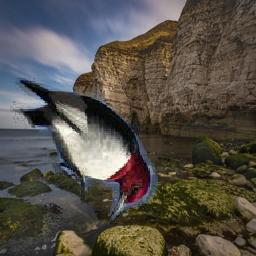Woodpecker: (10, 78, 158, 226)
